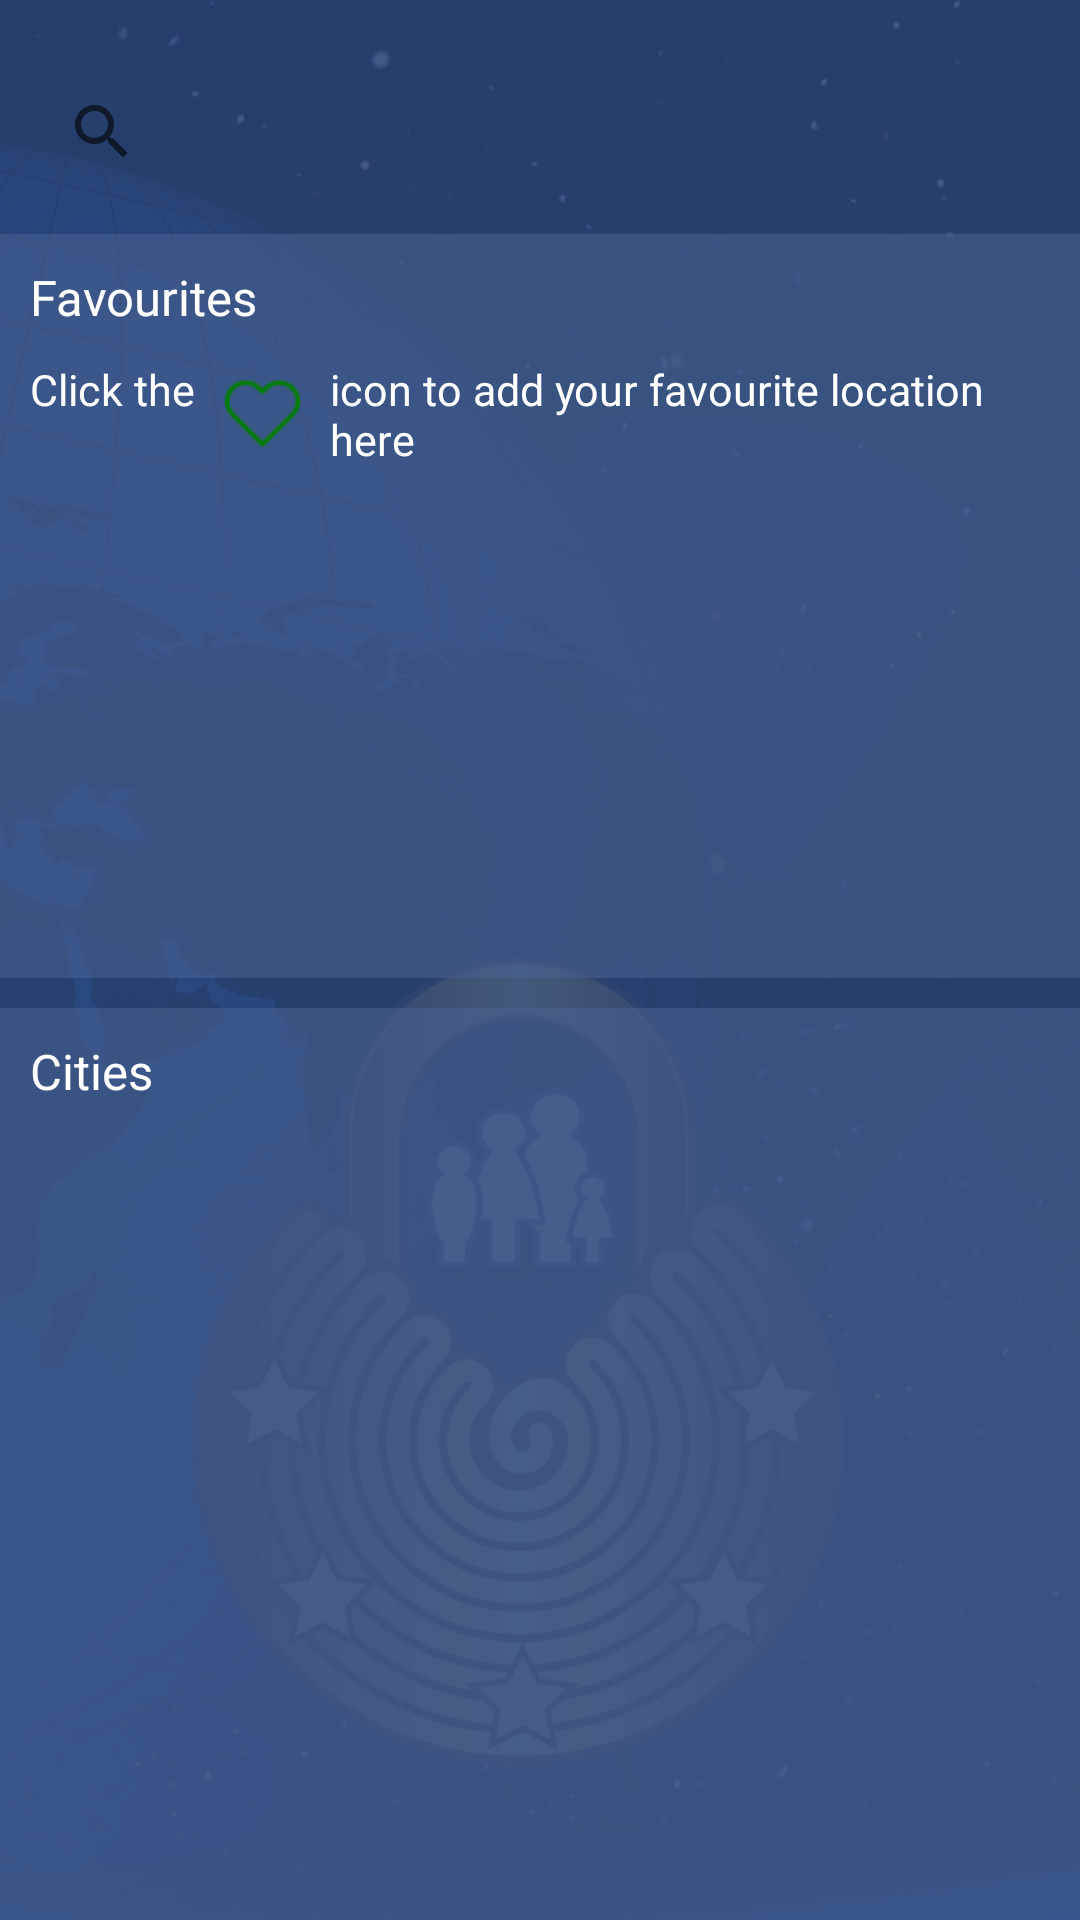

Icon click points for this 1080px x 1920px phone screenshot, format [x,y]:
heart: [262,413]
